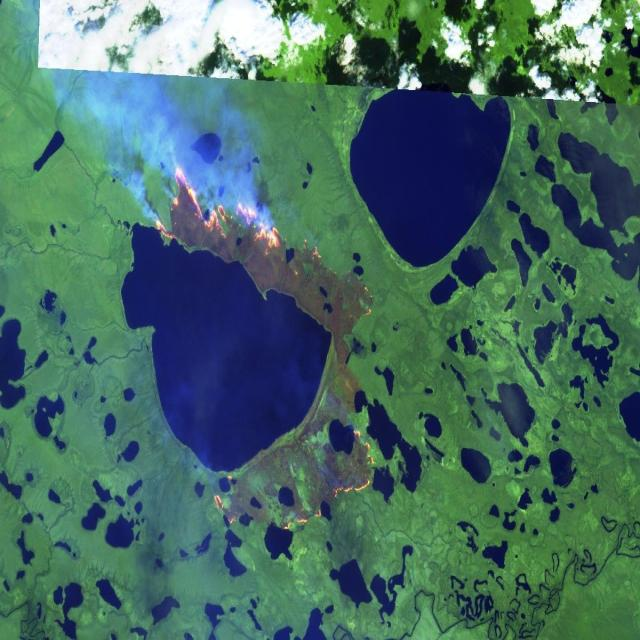fire: (141, 161, 375, 324), (192, 415, 390, 525)
